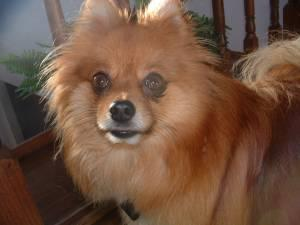dog-pomeranian: (57, 0, 200, 161)
